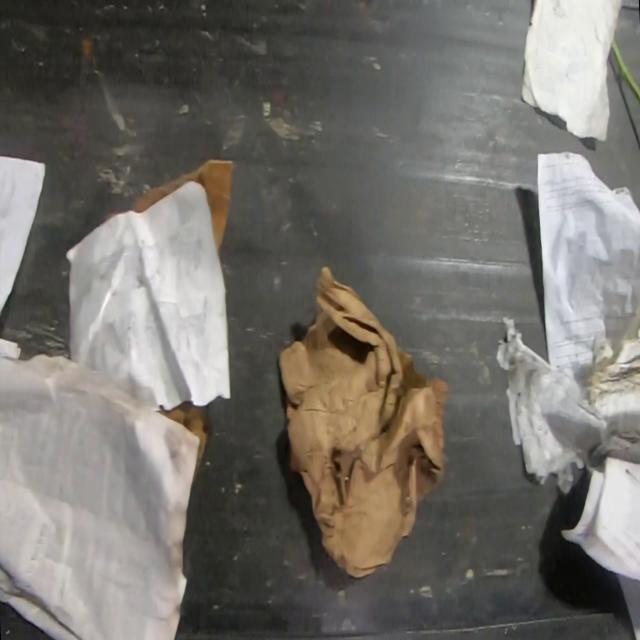cardboard: (276, 264, 451, 581), (134, 158, 235, 260), (156, 401, 212, 485)
